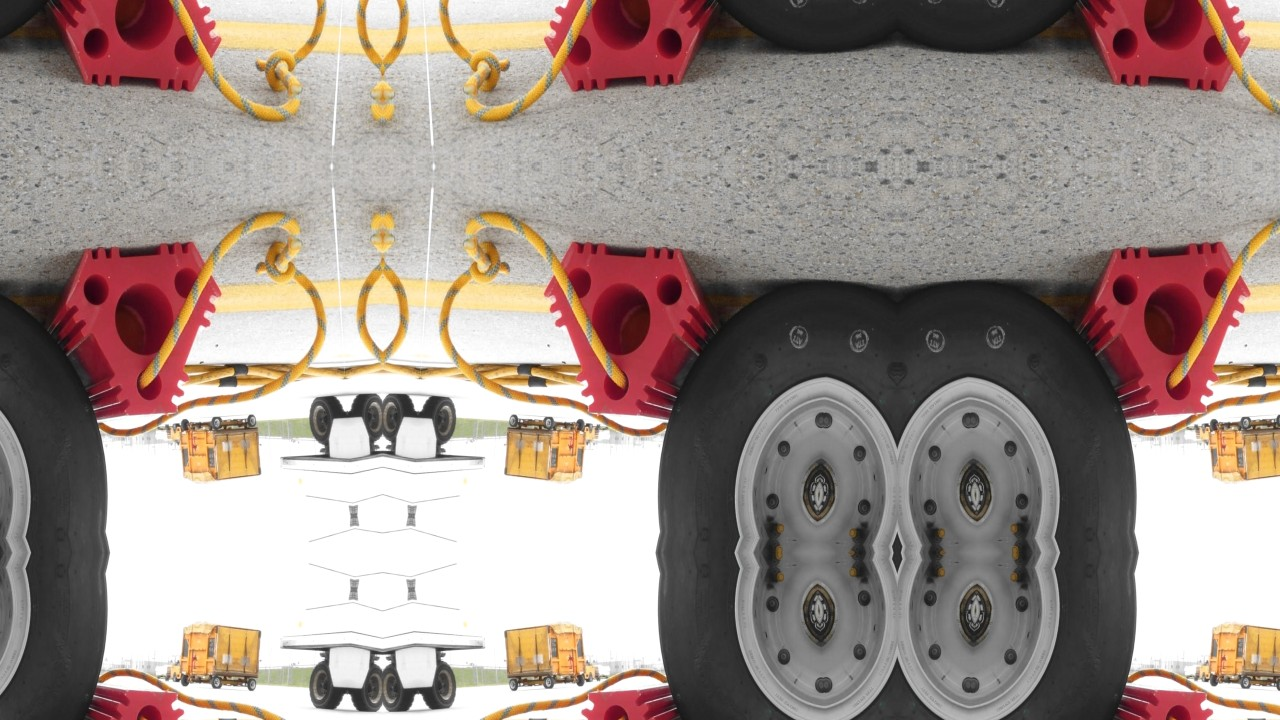chock: (38, 239, 229, 426), (536, 239, 727, 426), (1068, 239, 1259, 426), (38, 0, 229, 94), (536, 0, 727, 94), (1068, 0, 1259, 94), (38, 680, 229, 720), (536, 680, 727, 720), (1068, 680, 1259, 720)
wheel: (655, 270, 833, 542), (962, 270, 1140, 542), (0, 270, 110, 542), (655, 564, 833, 720), (962, 564, 1140, 720), (817, 280, 898, 552), (898, 280, 978, 552), (0, 564, 110, 720), (817, 554, 898, 720), (898, 554, 978, 720), (655, 0, 833, 63), (962, 0, 1140, 63), (0, 0, 110, 63), (817, 0, 898, 53), (898, 0, 978, 53), (308, 396, 344, 444), (421, 396, 457, 444), (308, 662, 344, 710), (421, 662, 457, 710), (351, 393, 383, 441), (351, 665, 383, 713), (383, 393, 414, 441), (383, 665, 414, 713), (210, 417, 221, 430), (544, 417, 555, 430), (1240, 417, 1251, 430), (210, 676, 221, 689), (544, 676, 555, 689), (1240, 676, 1251, 689), (246, 415, 256, 427), (509, 415, 519, 427), (246, 679, 256, 691), (509, 679, 519, 691), (180, 420, 189, 432), (576, 420, 585, 432), (1210, 420, 1219, 432), (180, 674, 189, 686), (576, 674, 585, 686), (1210, 674, 1219, 686), (171, 423, 178, 434), (587, 423, 594, 434), (1201, 423, 1208, 434), (171, 672, 178, 683), (587, 672, 594, 683), (1201, 672, 1208, 683), (1276, 415, 1280, 427), (1276, 679, 1280, 691)
